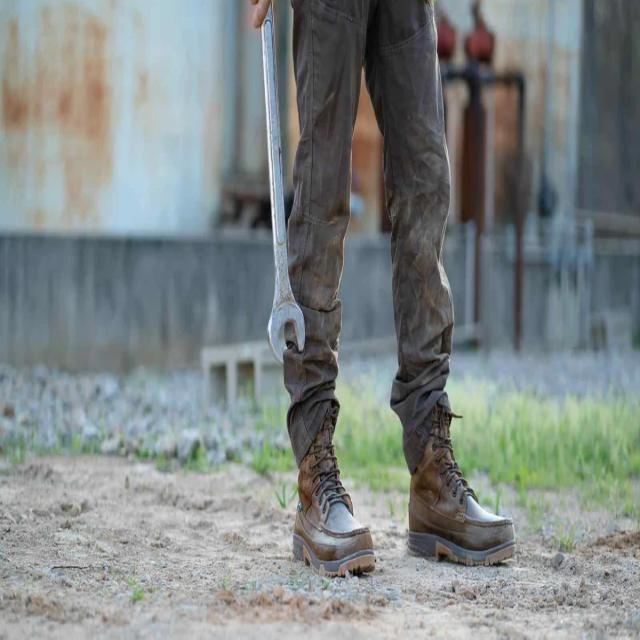Boots: (404, 390, 520, 574), (281, 412, 379, 580)
